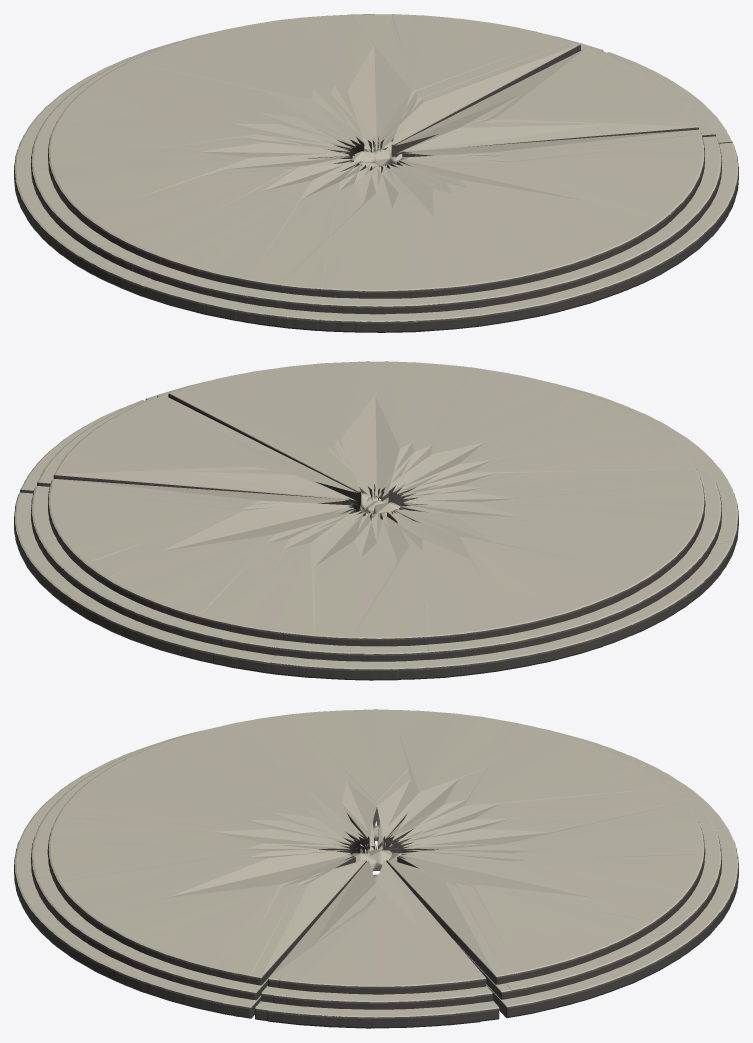
File: ore_node_limestone.glb
3 views of the same model, one above another, from view 1: azimuth 30°, elevation 25°; view 2: azimuth 150°, elevation 25°; view 3: azimuth 270°, elevation 25° (orthographic).
Visible parts, largest first — view 1: OreNode_A_Mesh, OreNode_B_Mesh, OreNode_C_Mesh; view 2: OreNode_A_Mesh, OreNode_B_Mesh, OreNode_C_Mesh; view 3: OreNode_A_Mesh, OreNode_C_Mesh, OreNode_B_Mesh.
Part boxes in pixels (<box>): OreNode_A_Mesh: <box>14,14,738,332</box>; OreNode_B_Mesh: <box>15,14,738,332</box>; OreNode_C_Mesh: <box>14,14,738,332</box>; OreNode_A_Mesh: <box>14,361,738,680</box>; OreNode_B_Mesh: <box>14,363,738,680</box>; OreNode_C_Mesh: <box>14,361,738,680</box>; OreNode_A_Mesh: <box>14,709,738,1028</box>; OreNode_C_Mesh: <box>14,710,738,1028</box>; OreNode_B_Mesh: <box>14,711,738,1028</box>.
Size of the model in its own units: 6 by 0.3212 by 6.
